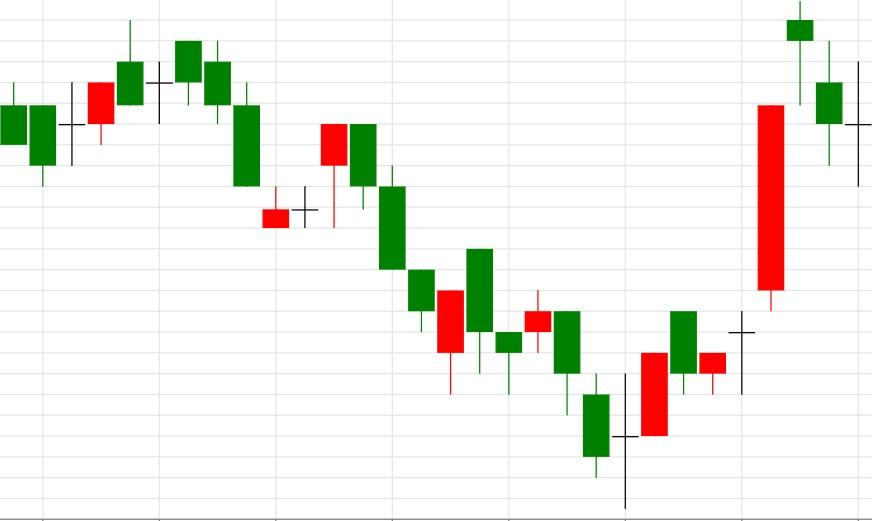three_black_crows_fall: (262, 123, 436, 332)
